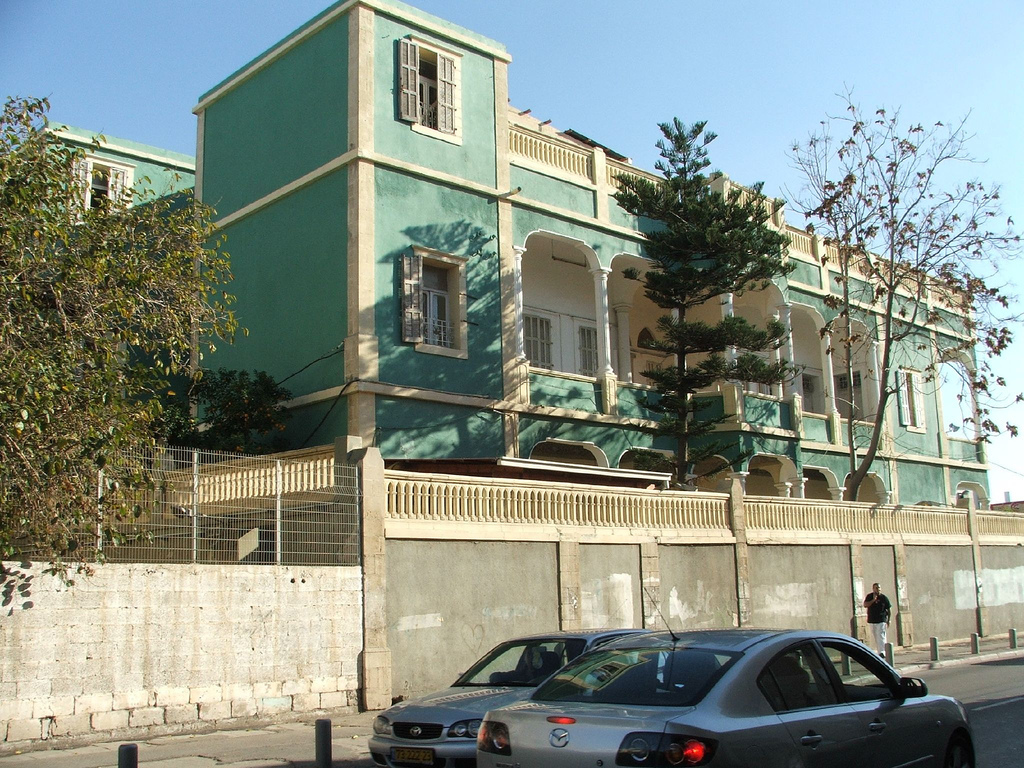Car: (371, 643, 936, 768)
